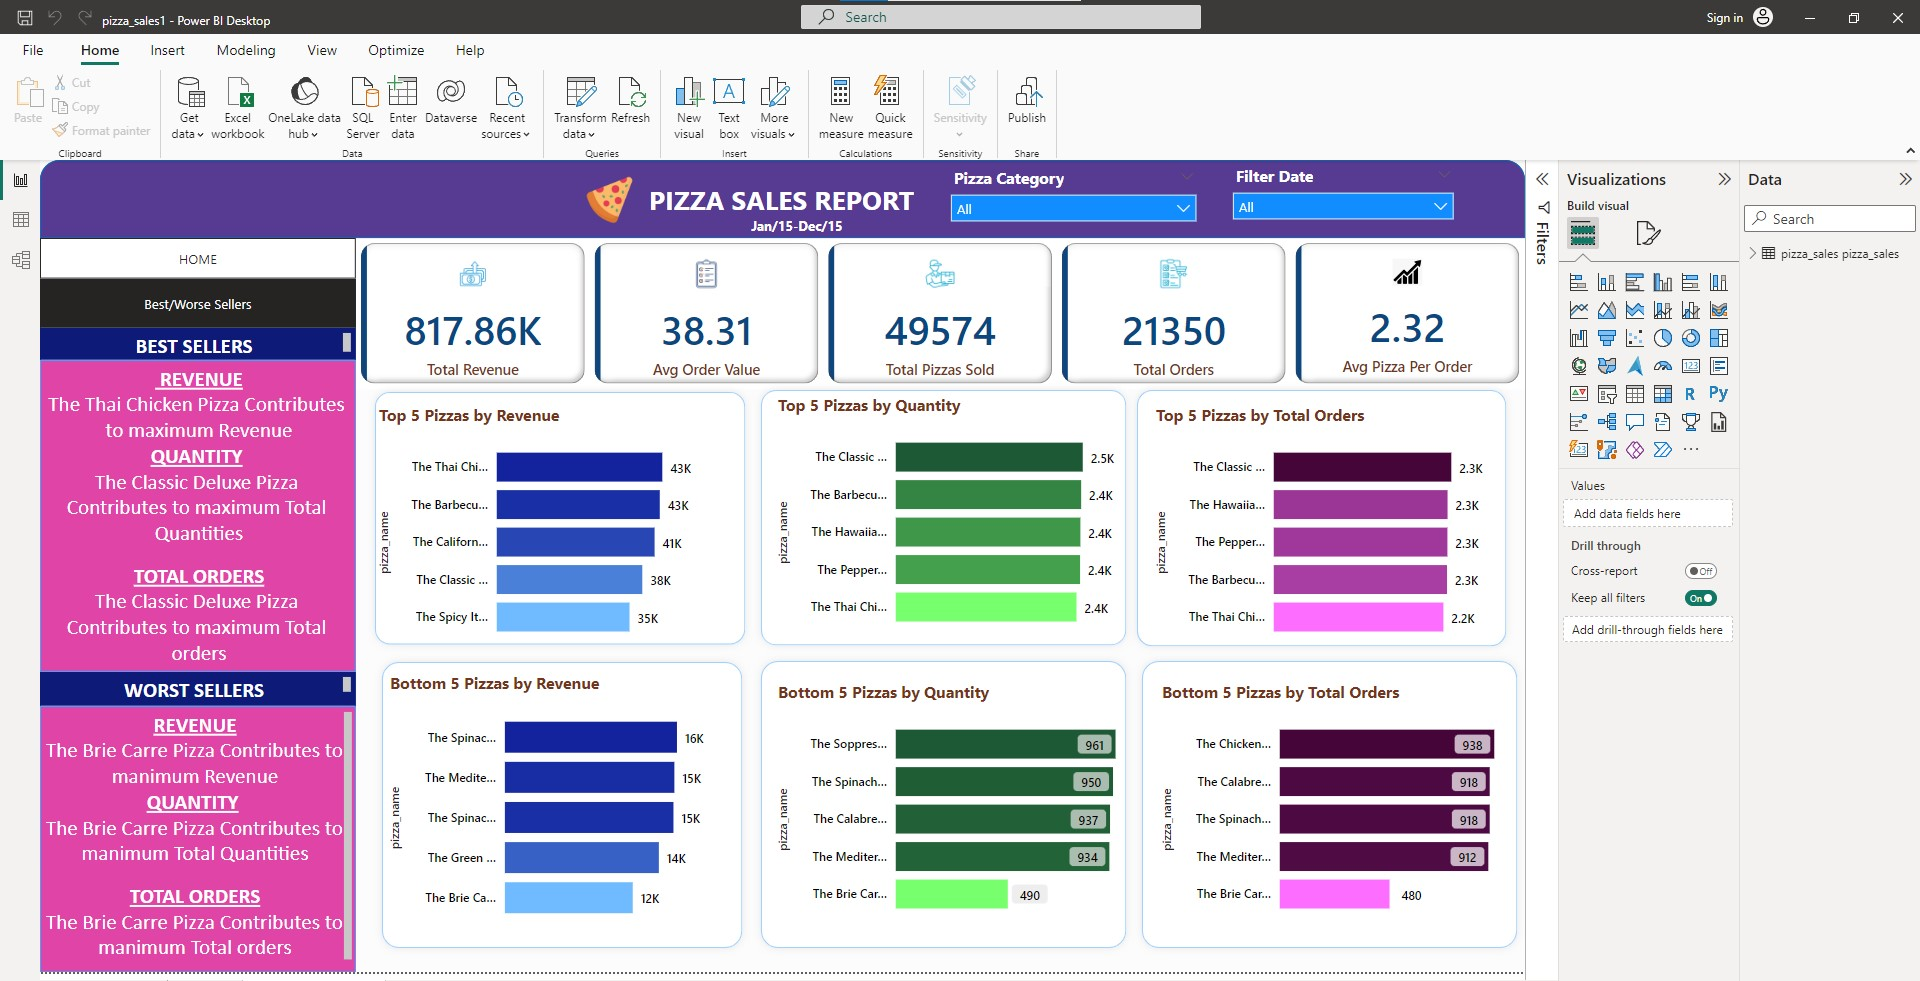

The page's visual inventory and layout, read from the dashboard file:
{"tool":"powerbi","page":{"name":"Best/Worse Sellers","canvas":[1500,820],"ordinal":1},"visuals":[{"type":"cardVisual","fields":{"Data":["pizza_sales pizza_sales.Total Revenue","pizza_sales pizza_sales.Avg Order Value","pizza_sales pizza_sales.Total Pizzas Sold","pizza_sales pizza_sales.Total Orders","pizza_sales pizza_sales.Avg Pizza Per Order"]},"box":[318.8,78.8,1181.2,152.5],"z":0},{"type":"shape","box":[0,0,1500,78.8],"z":1000},{"type":"textbox","box":[575,16.2,348.8,46.2],"z":2000},{"type":"textbox","box":[641.2,52.5,246.2,67.5],"z":3000},{"type":"image","box":[330,11.2,488.8,57.5],"z":4000},{"type":"shape","box":[0,78.8,318.8,741.2],"z":5000},{"type":"textbox","box":[0,169.7,319.2,32.3],"z":6000},{"type":"textbox","box":[0,202,319.2,315.2],"z":7000},{"type":"textbox","box":[0,551.5,319.2,268.7],"z":8000},{"type":"textbox","box":[0,517.2,319.2,34.3],"z":9000},{"type":"slicer","fields":{"Values":["pizza_sales pizza_sales.pizza_category"]},"box":[910,2.5,267.5,76.2],"z":10000},{"type":"slicer","fields":{"Values":["pizza_sales pizza_sales.order_date"]},"box":[1195,0,242.5,68.8],"z":11000},{"type":"shape","box":[330,226.2,390,271.2],"z":12000},{"type":"shape","box":[720,223.8,385,273.8],"z":13000},{"type":"shape","box":[1100,223.8,388.8,275],"z":14000},{"type":"shape","box":[337.5,498.8,380,305],"z":15000},{"type":"shape","box":[720,497.5,385,306.2],"z":16000},{"type":"shape","box":[1105,497.5,395,306.2],"z":17000},{"type":"barChart","title":"Top 5 Pizzas by Revenue","fields":{"Category":["pizza_sales pizza_sales.pizza_name"],"Y":["pizza_sales pizza_sales.Total Revenue"]},"box":[337.5,246.2,360,251.2],"z":18000},{"type":"barChart","title":"Bottom 5 Pizzas by Revenue","fields":{"Category":["pizza_sales pizza_sales.pizza_name"],"Y":["pizza_sales pizza_sales.Total Revenue"]},"box":[348.8,517.5,348.8,266.2],"z":19000},{"type":"barChart","title":"Top 5 Pizzas by Quantity","fields":{"Category":["pizza_sales pizza_sales.pizza_name"],"Y":["pizza_sales pizza_sales.Total Pizzas Sold"]},"box":[740,236.2,360,251.2],"z":20000},{"type":"barChart","title":"Bottom 5 Pizzas by Quantity","fields":{"Category":["pizza_sales pizza_sales.pizza_name"],"Y":["pizza_sales pizza_sales.Total Pizzas Sold"]},"box":[740,526.2,360,251.2],"z":21000},{"type":"barChart","title":"Top 5 Pizzas by Total Orders","fields":{"Category":["pizza_sales pizza_sales.pizza_name"],"Y":["pizza_sales pizza_sales.Total Orders"]},"box":[1122.5,246.2,360,251.2],"z":22000},{"type":"barChart","title":"Bottom 5 Pizzas by Total Orders","fields":{"Category":["pizza_sales pizza_sales.pizza_name"],"Y":["pizza_sales pizza_sales.Total Orders"]},"box":[1128.8,526.2,360,251.2],"z":23000},{"type":"pageNavigator","box":[0,78.8,319.2,41.4],"z":23001},{"type":"pageNavigator","box":[0,120.2,319.2,49.5],"z":23002}]}

Visuals, with their boxes on the page's 1500x820 design canvas (x1, y1, x2, y2). These are canvas units, not pixel positions in the 1920x981 screenshot, which may show the page scaled, cropped or inside an application window:
cardVisual - pizza_sales pizza_sales.Total Revenue x pizza_sales pizza_sales.Avg Order Value: (319, 79, 1500, 231)
shape: (0, 0, 1500, 79)
textbox: (575, 16, 924, 62)
textbox: (641, 52, 887, 120)
image: (330, 11, 819, 69)
shape: (0, 79, 319, 820)
textbox: (0, 170, 319, 202)
textbox: (0, 202, 319, 517)
textbox: (0, 552, 319, 820)
textbox: (0, 517, 319, 552)
slicer - pizza_sales pizza_sales.pizza_category: (910, 2, 1178, 79)
slicer - pizza_sales pizza_sales.order_date: (1195, 0, 1438, 69)
shape: (330, 226, 720, 497)
shape: (720, 224, 1105, 498)
shape: (1100, 224, 1489, 499)
shape: (338, 499, 718, 804)
shape: (720, 498, 1105, 804)
shape: (1105, 498, 1500, 804)
"Top 5 Pizzas by Revenue" barChart: (338, 246, 698, 497)
"Bottom 5 Pizzas by Revenue" barChart: (349, 518, 698, 784)
"Top 5 Pizzas by Quantity" barChart: (740, 236, 1100, 487)
"Bottom 5 Pizzas by Quantity" barChart: (740, 526, 1100, 777)
"Top 5 Pizzas by Total Orders" barChart: (1122, 246, 1482, 497)
"Bottom 5 Pizzas by Total Orders" barChart: (1129, 526, 1489, 777)
pageNavigator: (0, 79, 319, 120)
pageNavigator: (0, 120, 319, 170)
